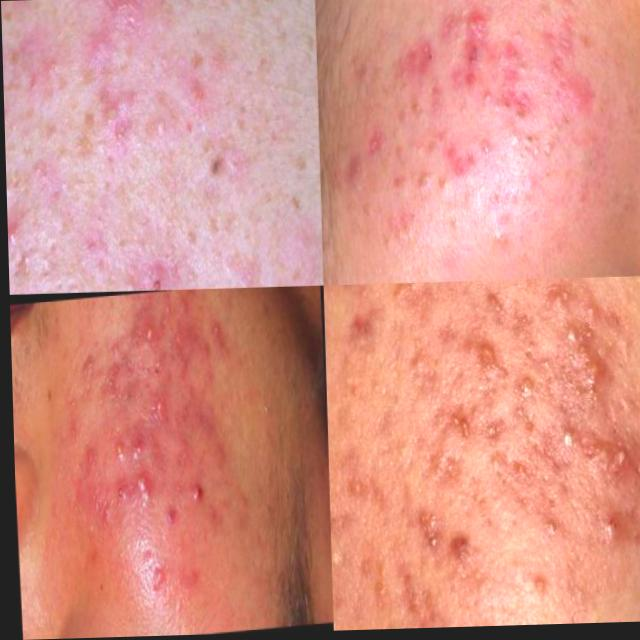8: (87, 70, 144, 151), (127, 226, 166, 291), (595, 503, 632, 557), (472, 326, 497, 390), (98, 0, 151, 29), (1, 23, 15, 95)
9: (533, 280, 568, 330), (512, 367, 550, 412), (133, 313, 155, 352), (145, 388, 168, 420), (185, 476, 204, 509), (158, 299, 173, 328), (207, 316, 220, 342)
blackheads: (450, 34, 536, 90), (565, 435, 636, 489), (404, 502, 453, 565), (339, 299, 382, 368), (567, 318, 603, 394), (390, 572, 432, 631), (332, 141, 374, 194), (405, 34, 440, 91), (435, 141, 474, 189), (368, 215, 413, 253), (336, 467, 384, 502), (559, 75, 598, 118), (457, 4, 492, 47), (138, 557, 170, 599), (480, 213, 511, 256), (125, 410, 145, 466), (103, 431, 124, 477), (413, 159, 440, 193), (130, 473, 150, 513)
